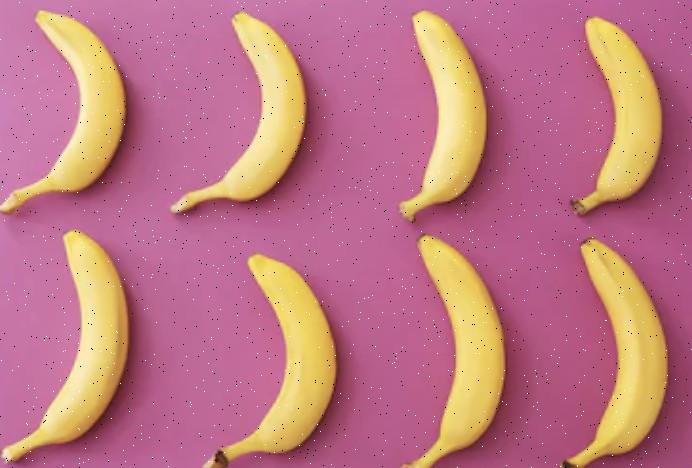fresh_banana: (5, 229, 127, 468), (208, 252, 336, 468), (171, 12, 306, 209), (2, 9, 127, 210), (408, 232, 506, 468), (568, 238, 667, 468), (402, 12, 488, 214), (578, 17, 661, 212)
